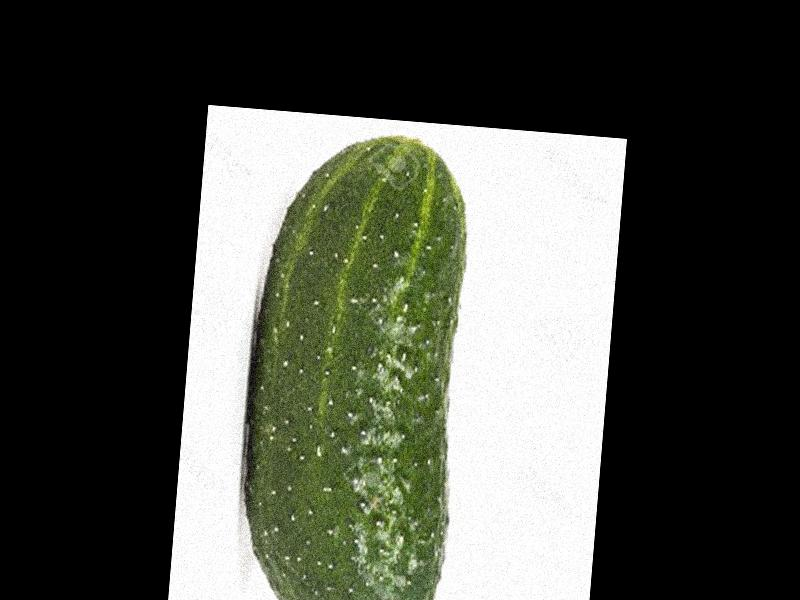Cucumber: (229, 125, 474, 600)
